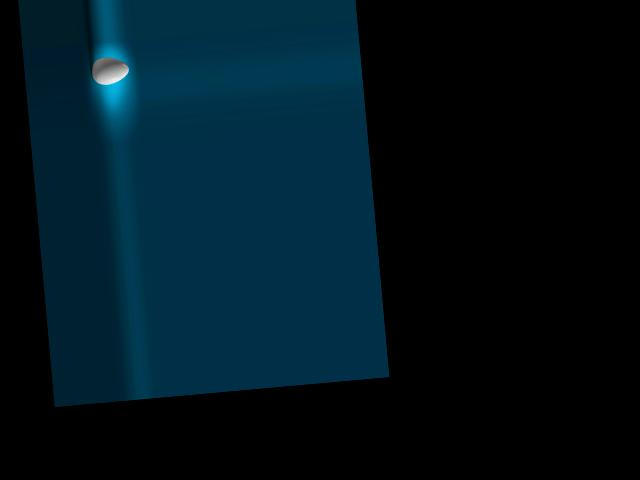egg: (90, 54, 129, 85)
